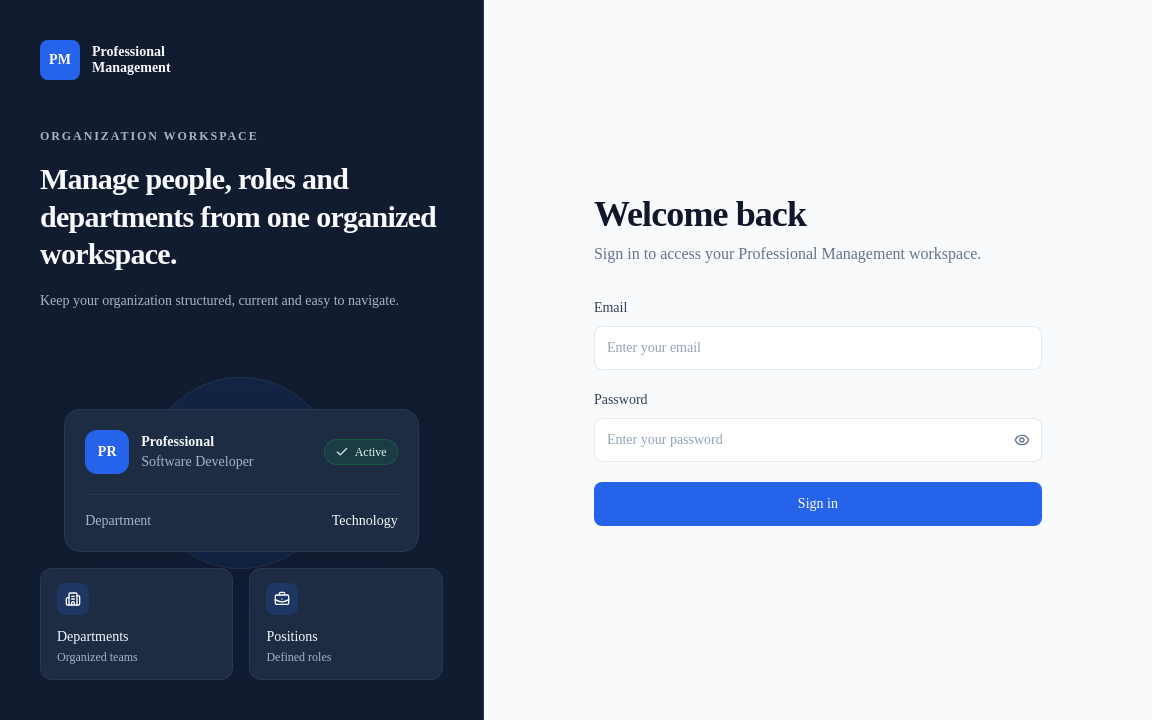
Test: LoginForm › disables repeated submission while sign in is pending
Type "admin@example.test" into the field labelled "Email" at {"x": 818, "y": 348}, box [594,326,1042,370]
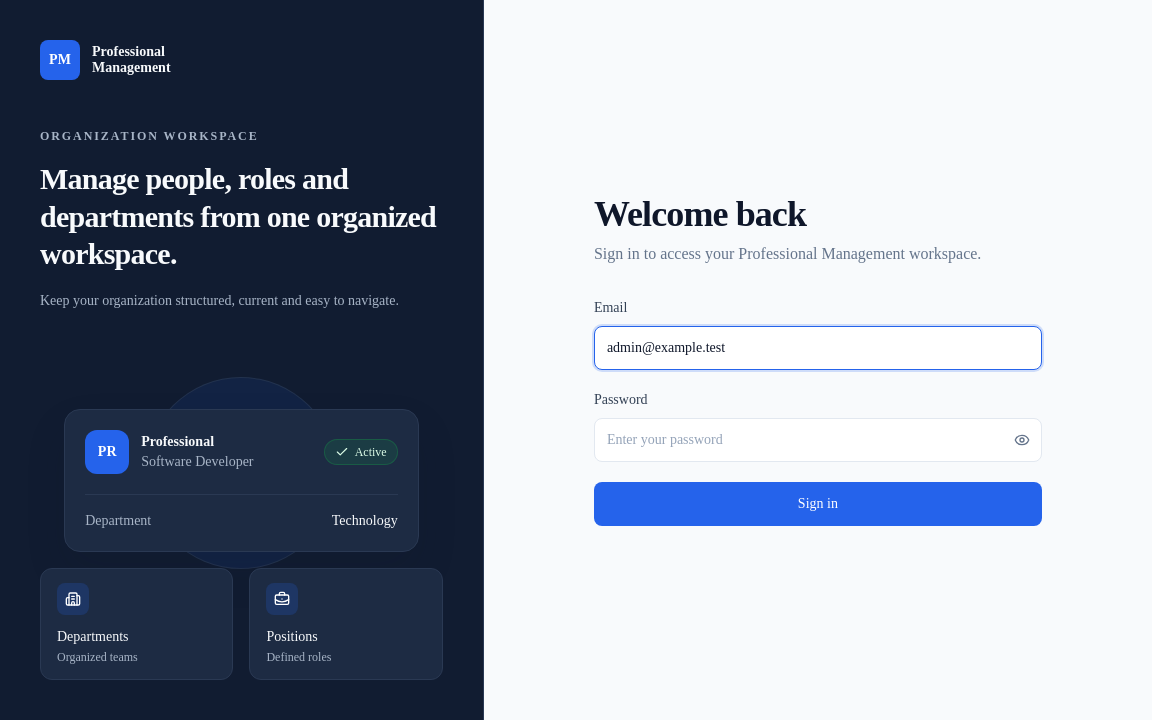
Type "safe-password" into the password field labelled "Password" at {"x": 818, "y": 440}, box [594,418,1042,462]
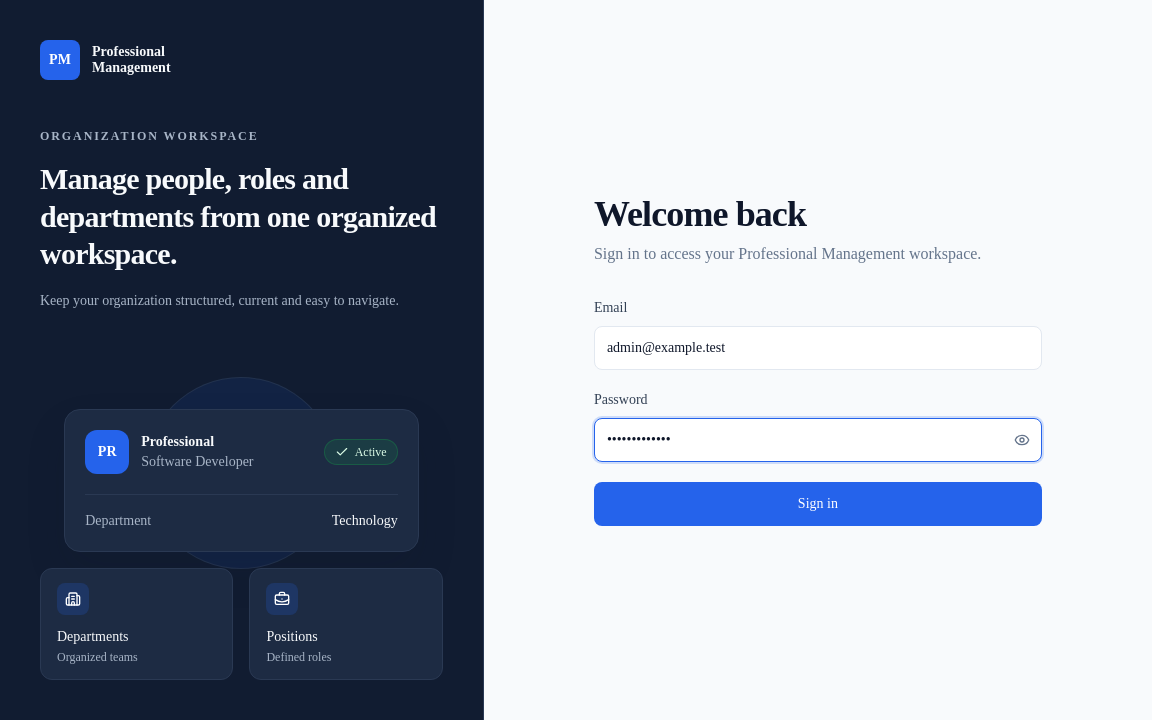
Click the button "Sign in" at {"x": 818, "y": 504}, box [594,482,1042,526]
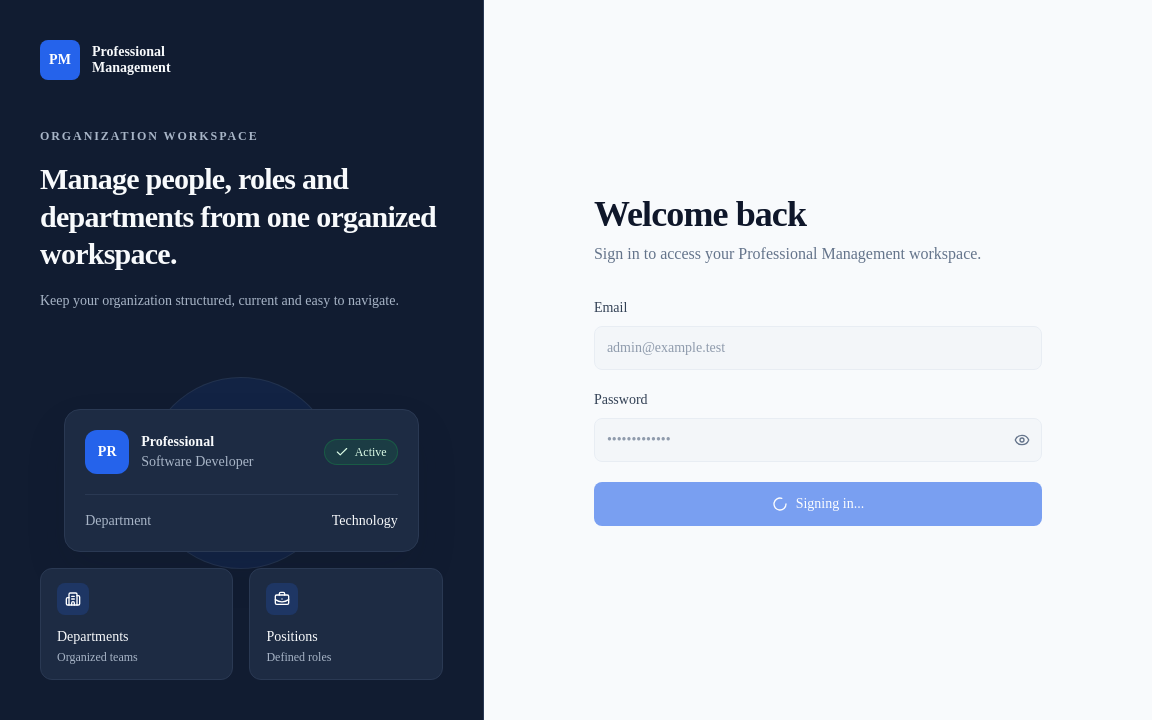
Check: the button "Signing in..." is disabled, box [594,482,1042,526]
